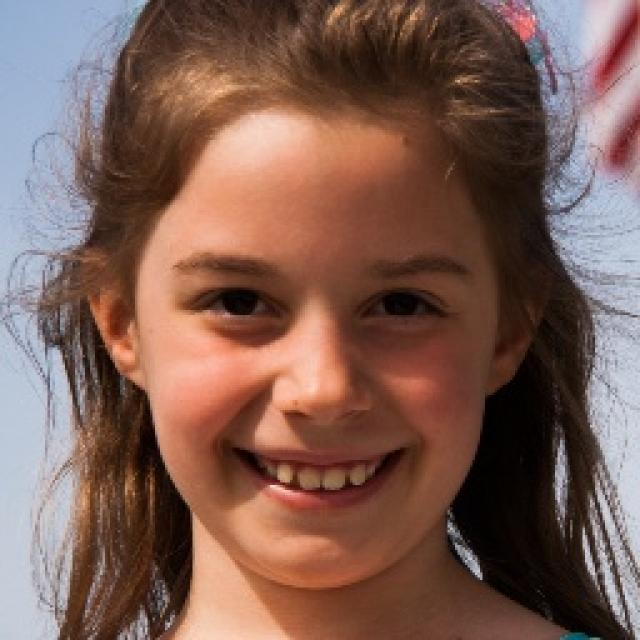earlobe: (75, 250, 144, 388), (489, 261, 551, 394)
